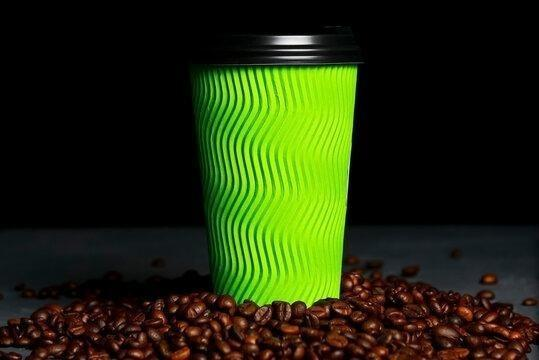cup-disposable: (183, 20, 367, 312)
